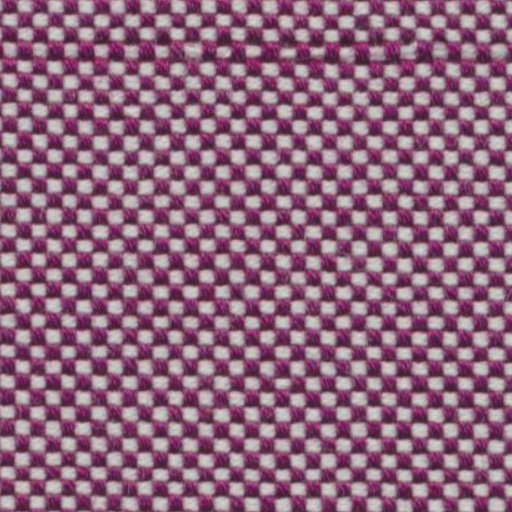TuoSha: (10, 20, 492, 82)
